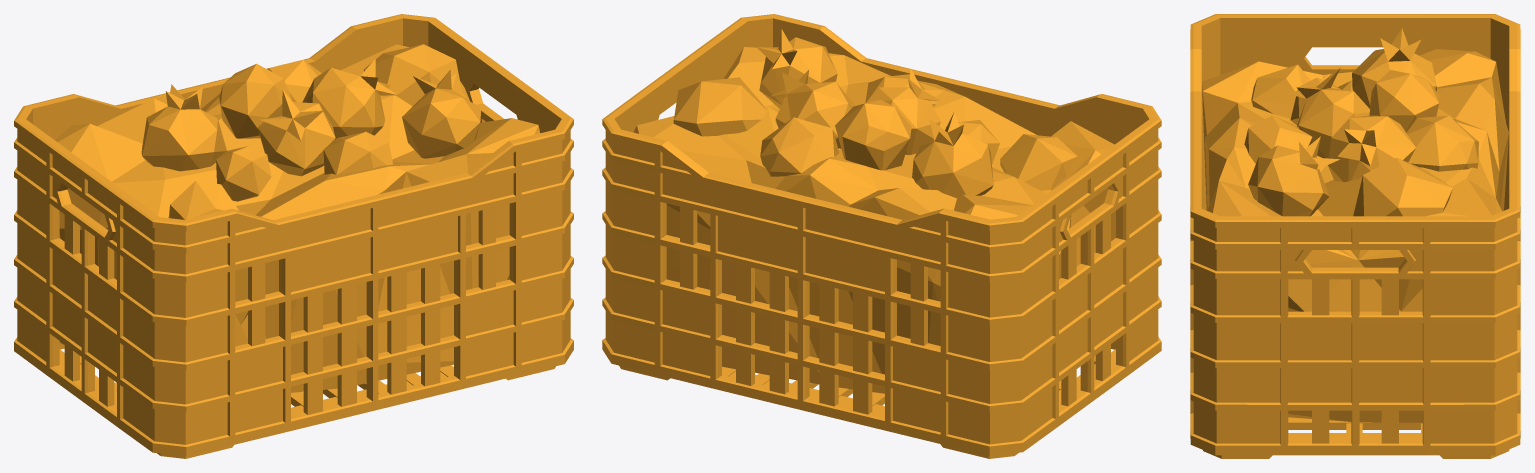
The model's file is SM_Crate_Plastic_Big_Tomatoes.fbx.
The picture shows the model from 3 angles, left to right: view 1: azimuth 30°, elevation 25°; view 2: azimuth 150°, elevation 25°; view 3: azimuth 270°, elevation 25°; orthographic projection.
Parts seen in each view (by area): view 1: crate-plastic-big-tomatoes; view 2: crate-plastic-big-tomatoes; view 3: crate-plastic-big-tomatoes.
Boxes of the visible parts, bbox=[...] form: crate-plastic-big-tomatoes: bbox=[14, 14, 573, 458]; crate-plastic-big-tomatoes: bbox=[602, 14, 1161, 458]; crate-plastic-big-tomatoes: bbox=[1190, 14, 1520, 458].
Size of the model in its own units: 0.6083 by 0.3859 by 0.4083.
